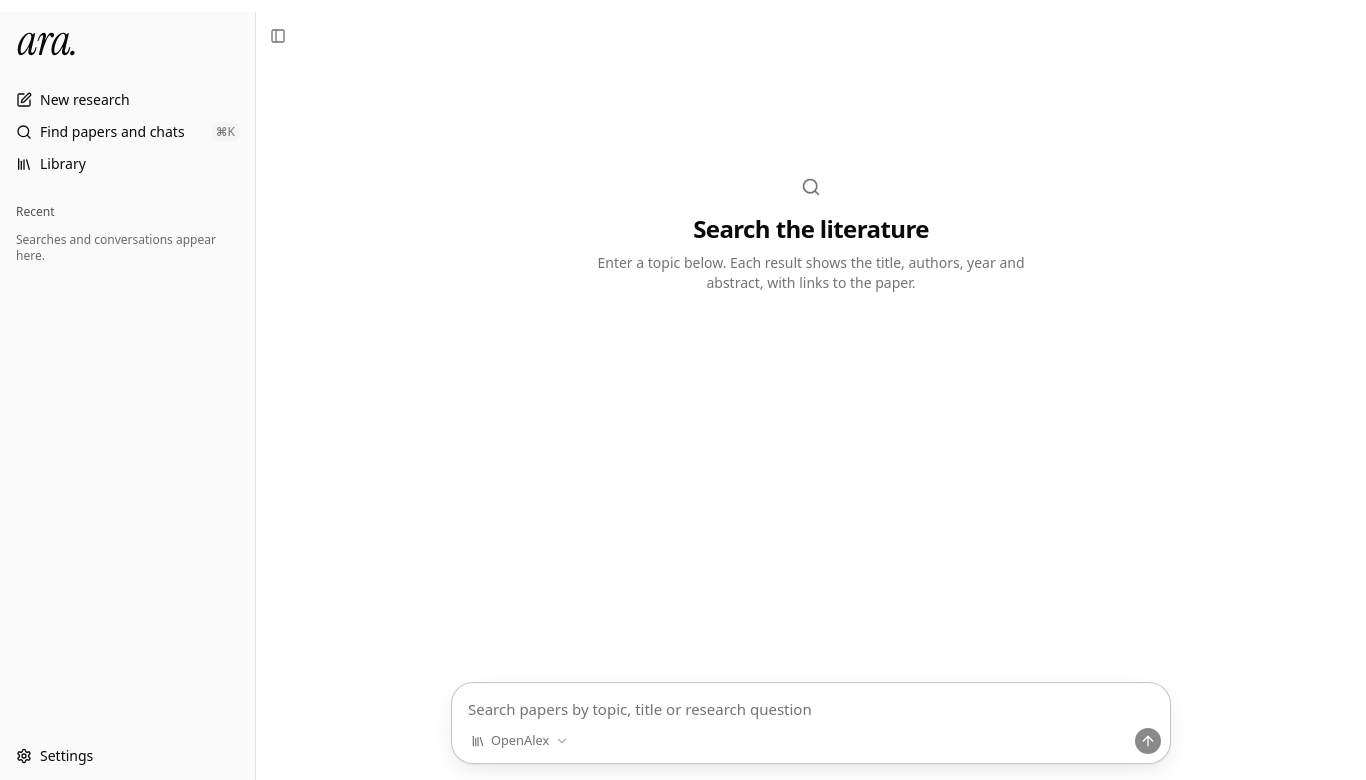
Scenario: Given a provider limit, When searching, Then the busy provider and a retry are shown inline
Type "graphs" into the field named "Research topic".
click(811, 705); type("graphs")  # box [452,683,1170,727]
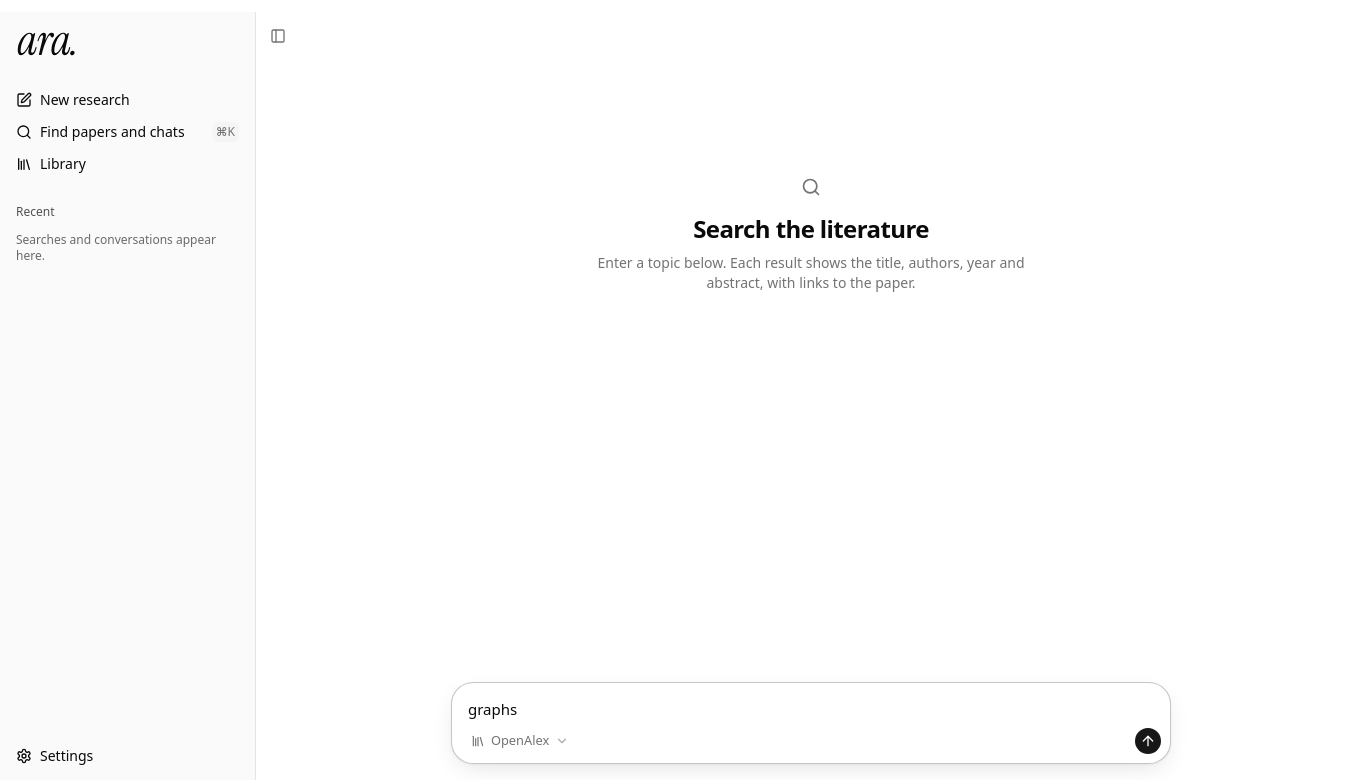
Click the button named "Search papers".
click(1148, 741)  # box [1134,727,1162,755]
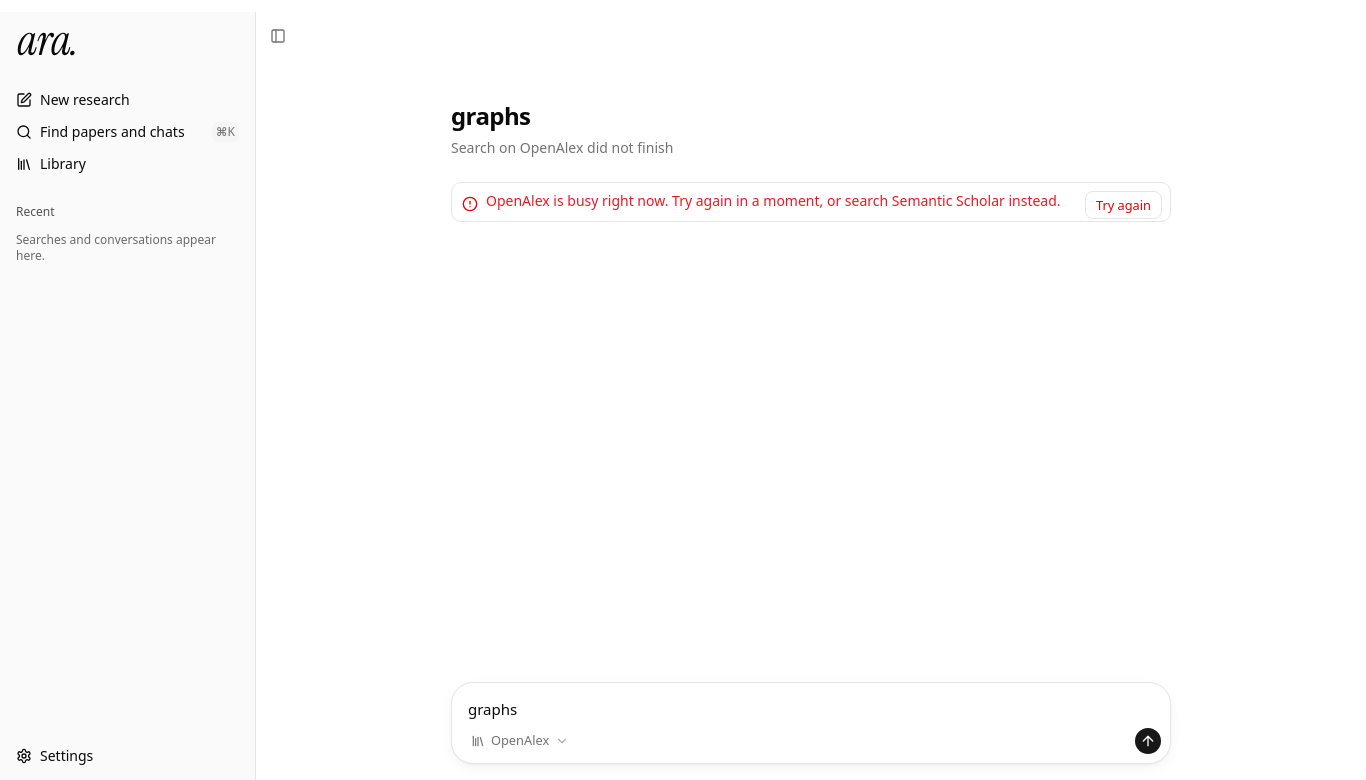
Now the message shows "OpenAlex is busy", box [486,191,1061,210]
Now the button "Try again" is shown, box [1085,191,1162,219]
